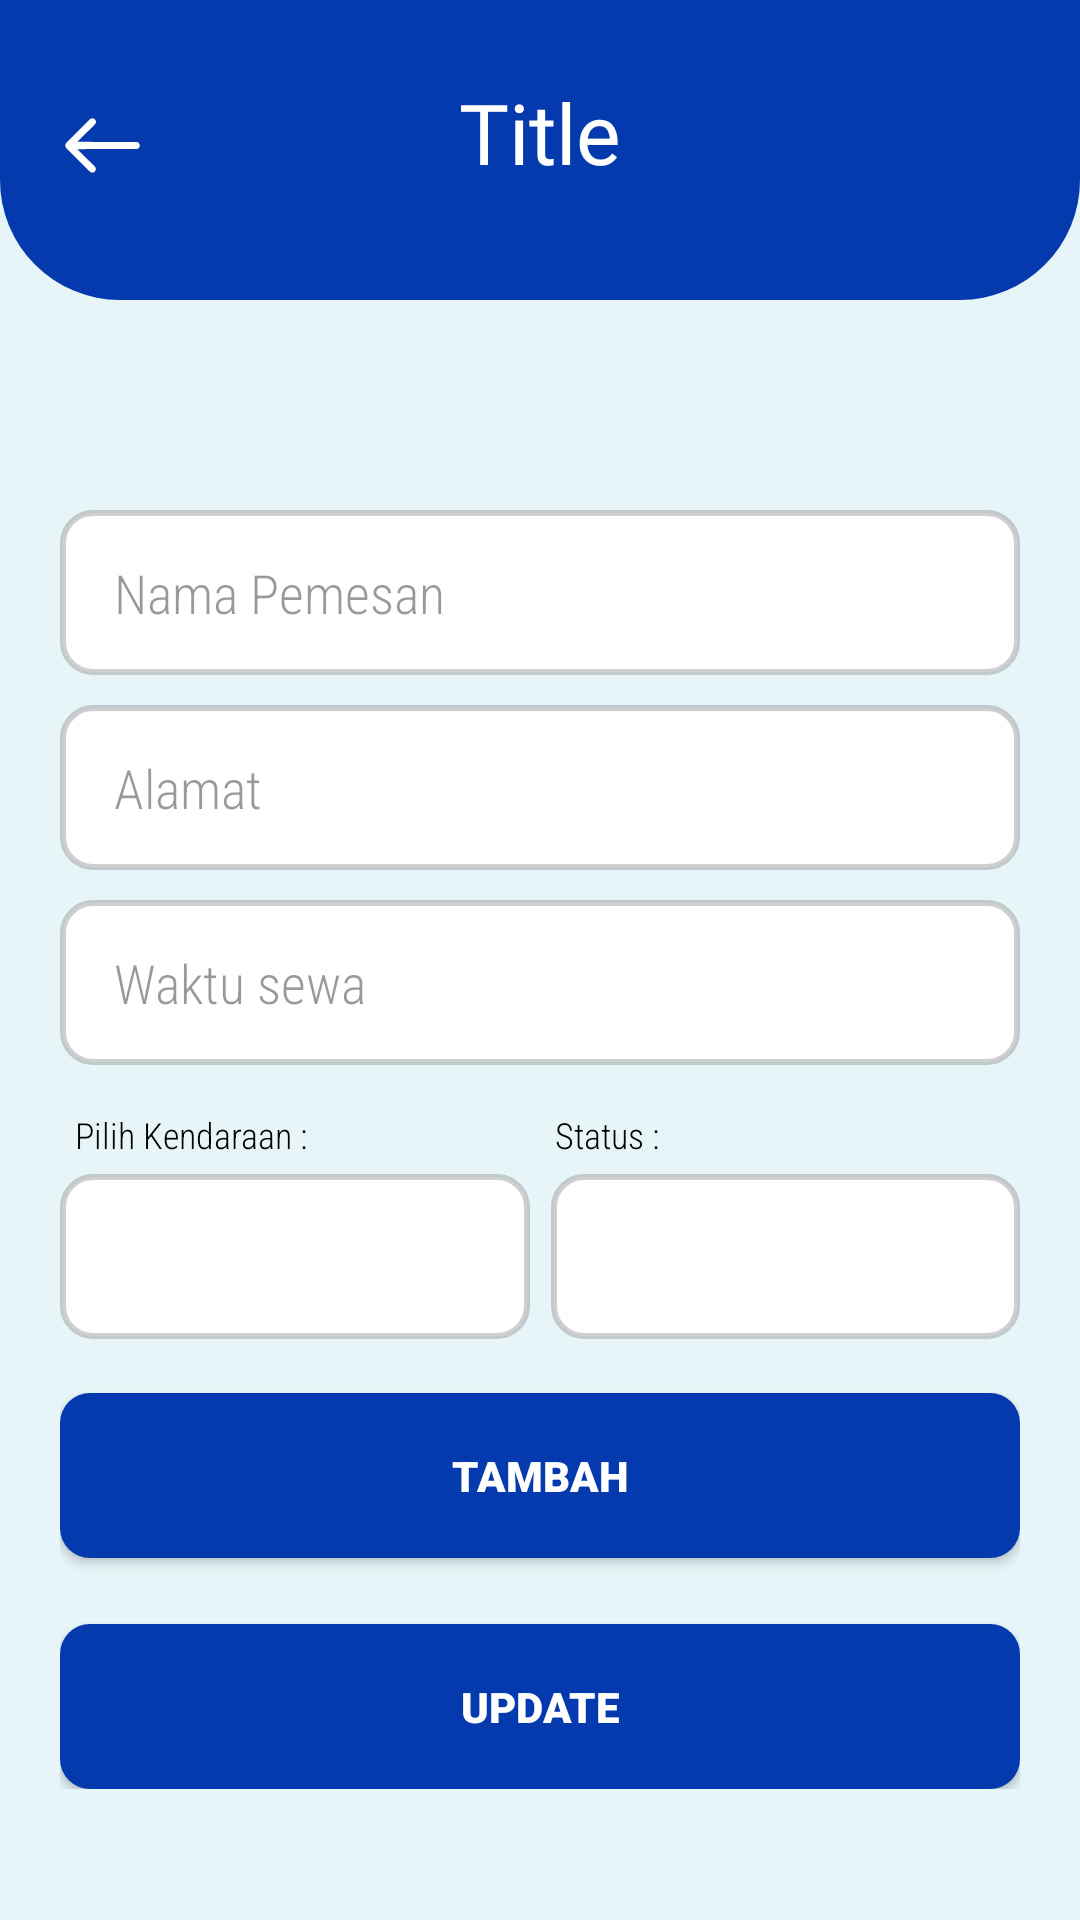

Named icons in this screenshot (1080×1920) and their bounding boxes, [x1,y1,x2,y2]:
back putih: [65,118,140,173]
